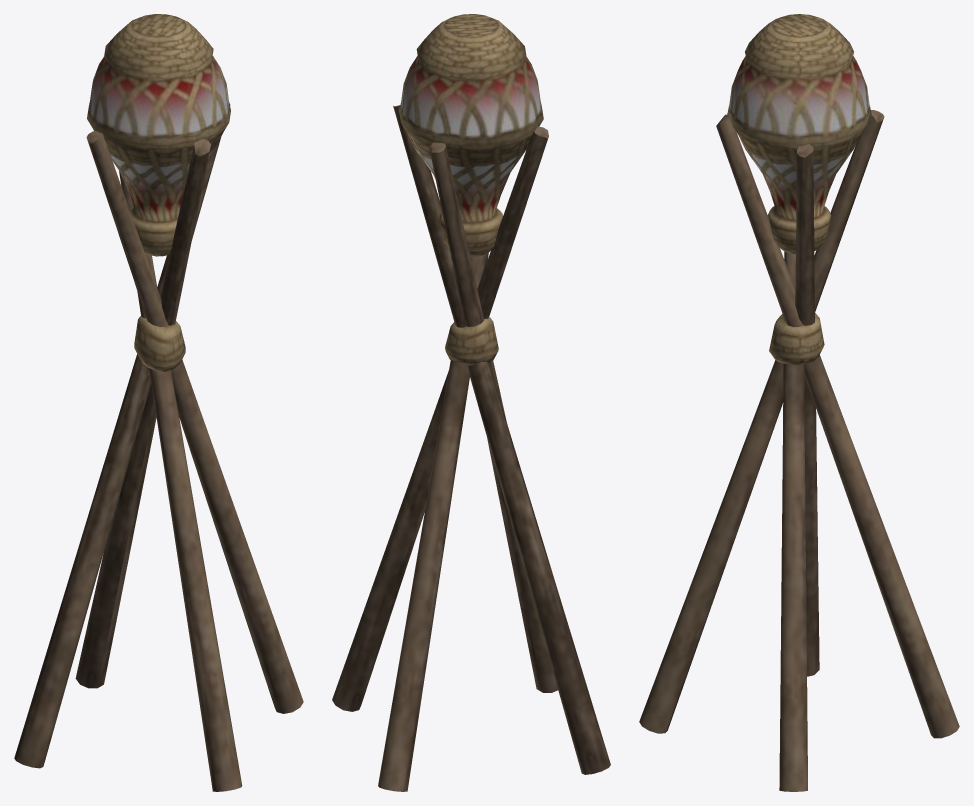
The model's file is comfort_t0_illuminationfloor_firefly.glb.
3 renders of one model, left to right at view 1: azimuth 30°, elevation 25°; view 2: azimuth 150°, elevation 25°; view 3: azimuth 270°, elevation 25°, orthographic.
Visible parts, largest first — view 1: firefly_basket_stand_01; view 2: firefly_basket_stand_01; view 3: firefly_basket_stand_01.
Boxes of the visible parts, <box> form: firefly_basket_stand_01: <box>14,14,303,791</box>; firefly_basket_stand_01: <box>332,14,610,791</box>; firefly_basket_stand_01: <box>639,14,959,791</box>.
Bounding box in the file's own units: 0.6694 × 1.63 × 0.6694.
1 material, 1 textured.
